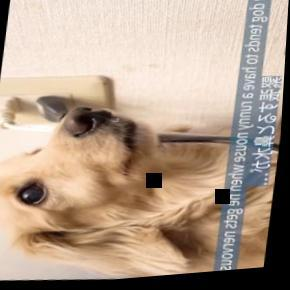nasal_discharge: (92, 106, 124, 126)
